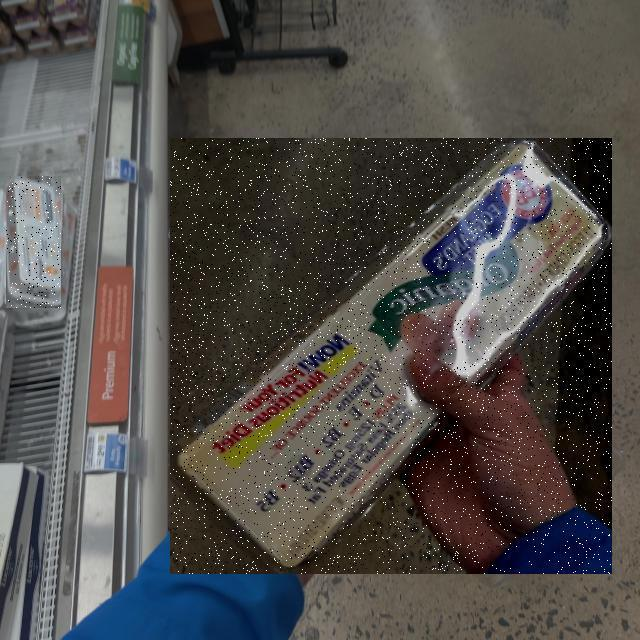Eggs: (170, 138, 612, 574), (6, 176, 61, 308)
